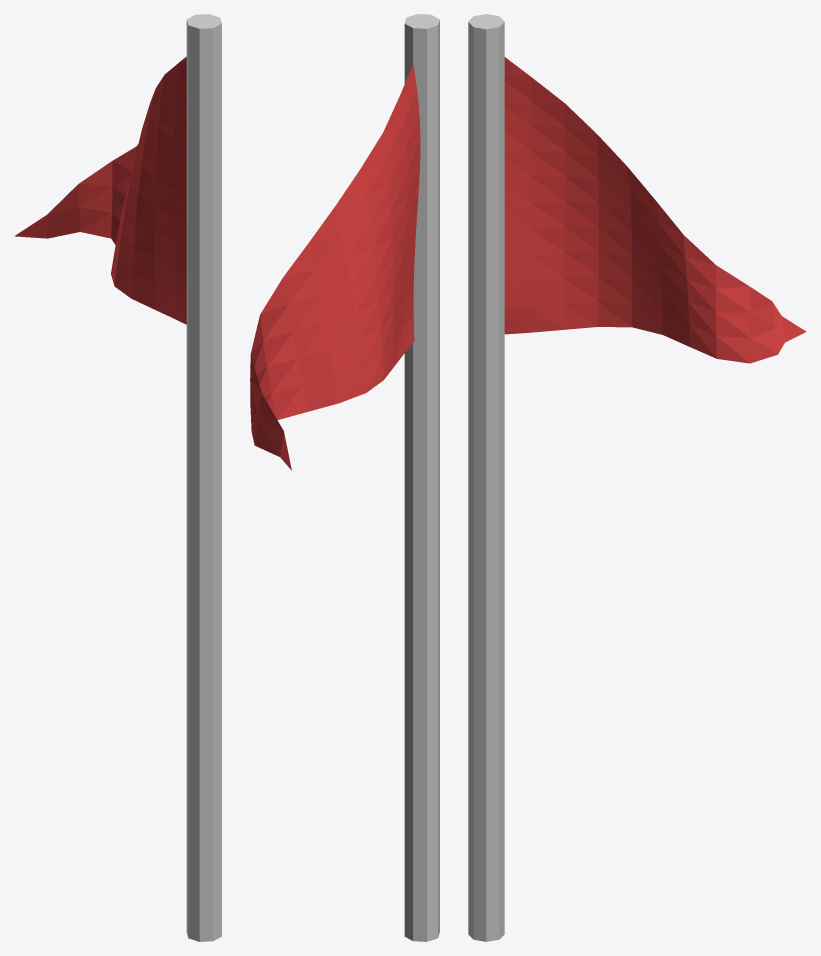
Rendered from FlagForStartGame.fbx.
3 views of the same model, side by side, from view 1: azimuth 30°, elevation 25°; view 2: azimuth 150°, elevation 25°; view 3: azimuth 270°, elevation 25° (orthographic).
Visible parts, largest first — view 1: Cylinder_001_6_0, Plane; view 2: Plane, Cylinder_001_6_0; view 3: Plane, Cylinder_001_6_0.
Boxes of the visible parts, x1,y1,x2,y2 form: Cylinder_001_6_0: (186,14,221,941); Plane: (14,57,186,324); Plane: (250,64,420,470); Cylinder_001_6_0: (404,14,439,941); Plane: (504,57,806,363); Cylinder_001_6_0: (468,14,504,941).
Size of the model in its own units: 13.49 by 152 by 51.23.
